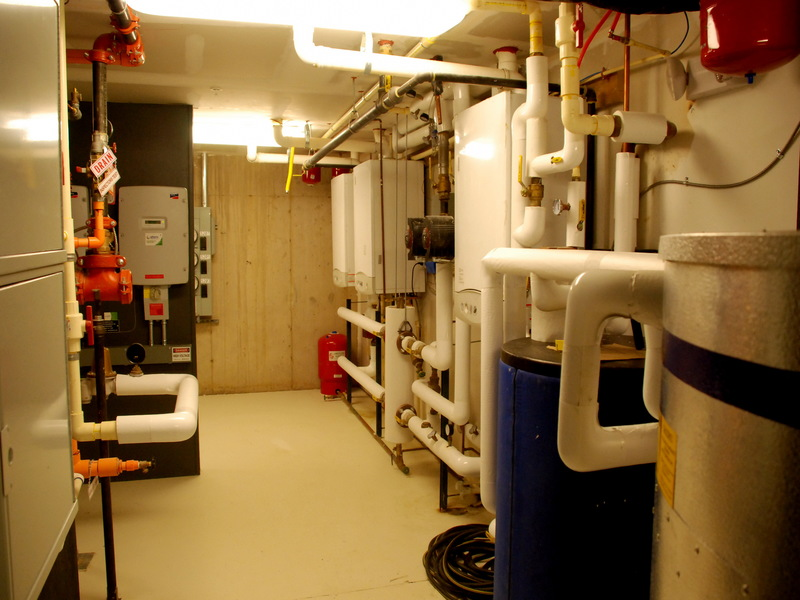valve: (512, 148, 541, 207), (378, 68, 401, 107)
